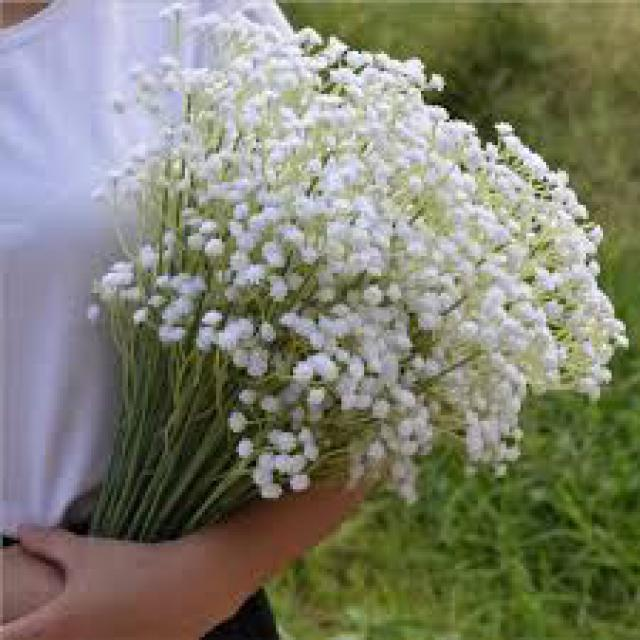gypsophila: (149, 12, 625, 502)
